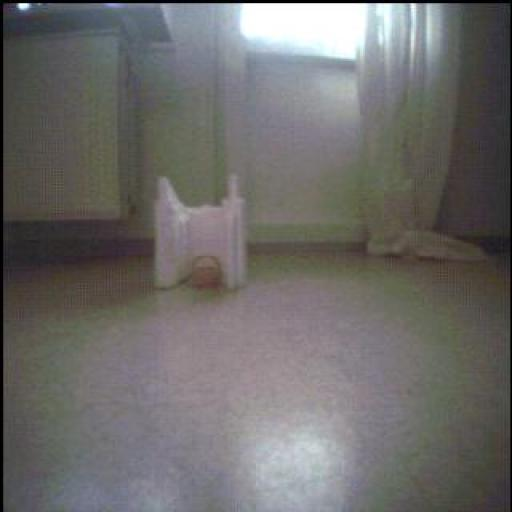Basket: (192, 257, 224, 289)
